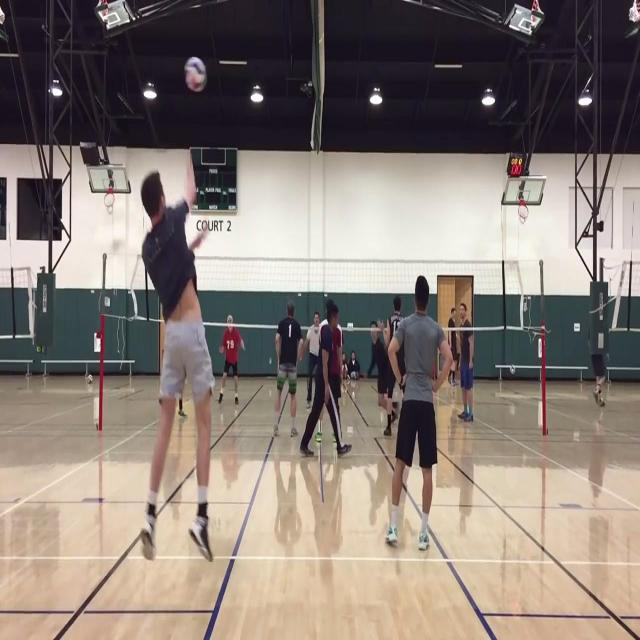volleyball: (184, 56, 208, 92)
